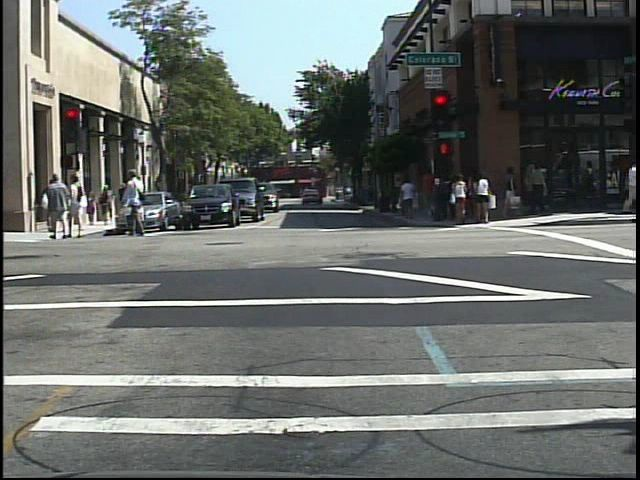person: (121, 166, 151, 241), (46, 169, 70, 245), (69, 173, 92, 244)
